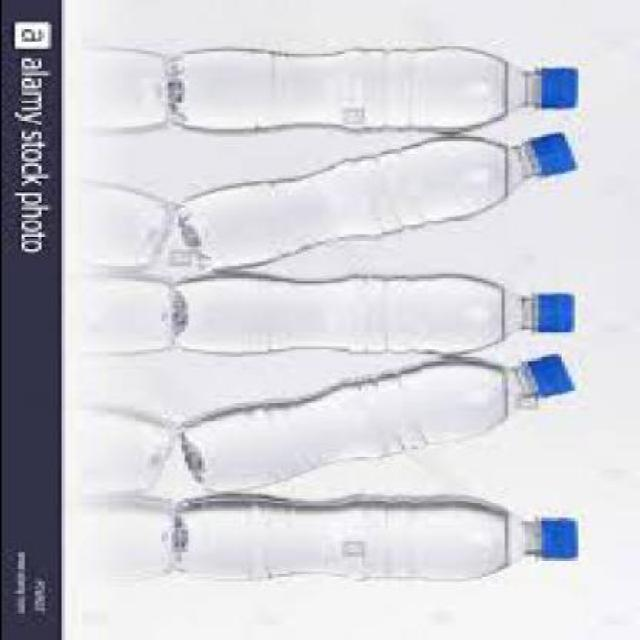PLASTIC: (180, 354, 577, 489), (174, 134, 577, 266), (171, 44, 580, 131), (177, 491, 580, 577), (174, 271, 577, 354), (527, 130, 579, 176), (527, 350, 576, 396), (531, 513, 580, 556), (531, 288, 580, 330), (537, 64, 580, 107)
